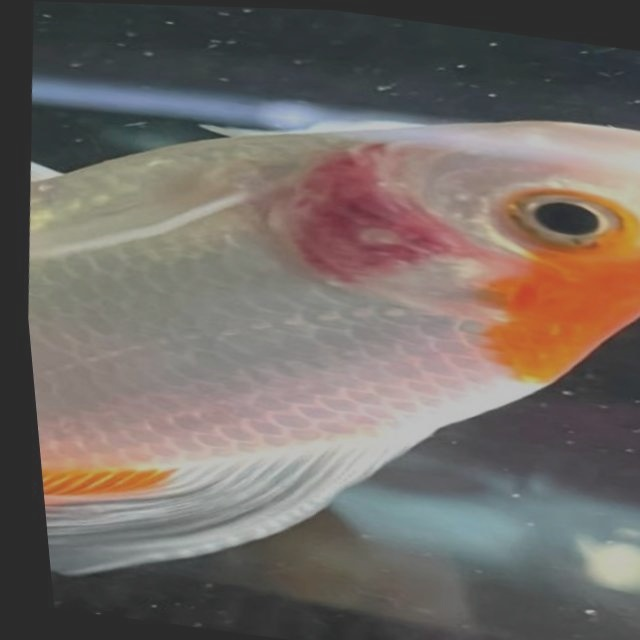Gill Disease: (184, 118, 638, 409)
